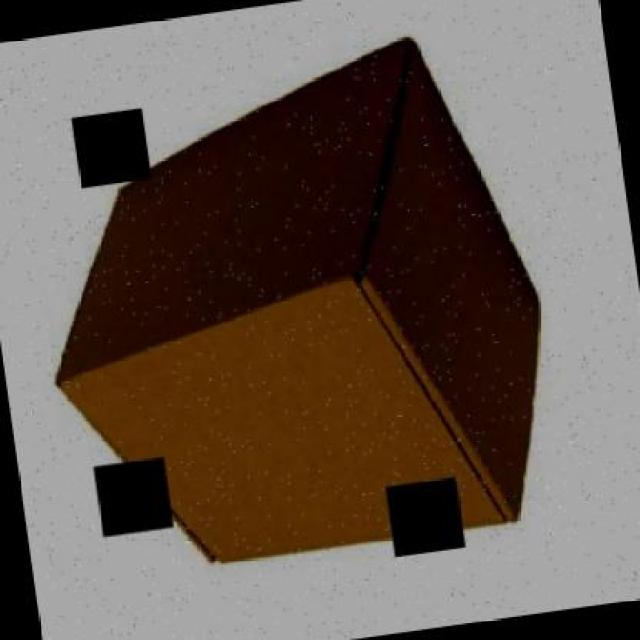box: (9, 19, 571, 593)
